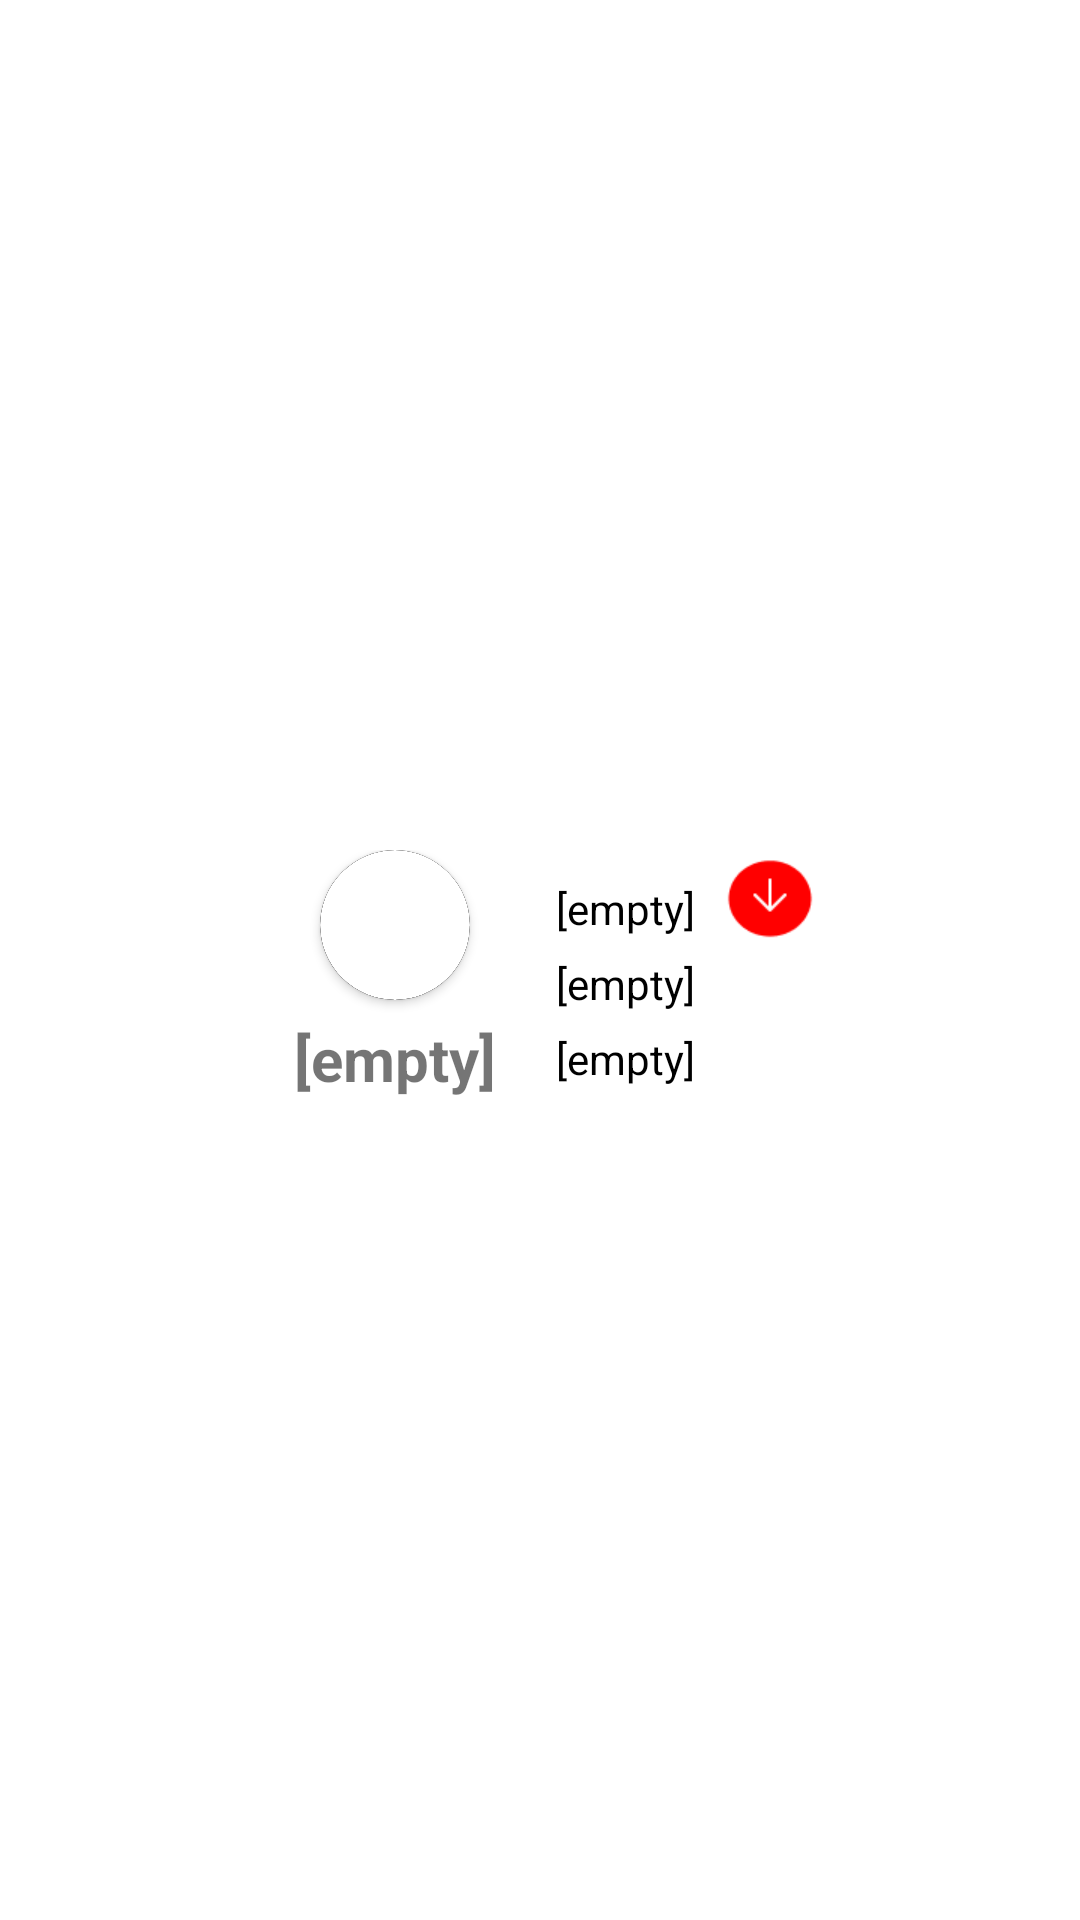

Icons on this 1080x1920 Android screen, each with its box as (x1, y1, x2, y2):
arrow down: (728, 860, 812, 938)
